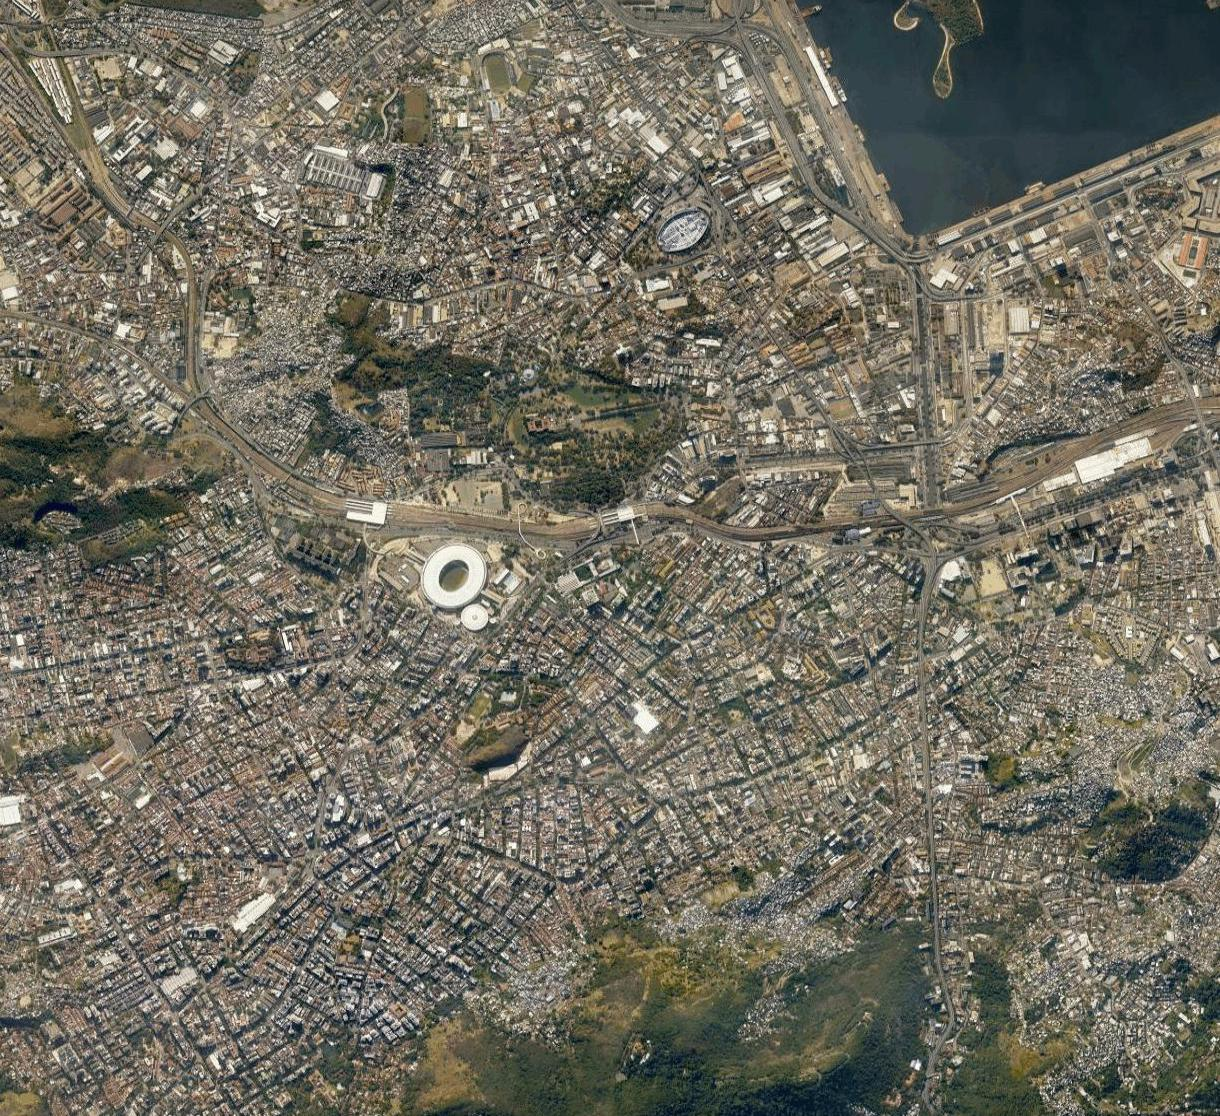bridge: (589, 511, 608, 535)
train_station: (596, 503, 650, 529), (343, 498, 391, 527)
